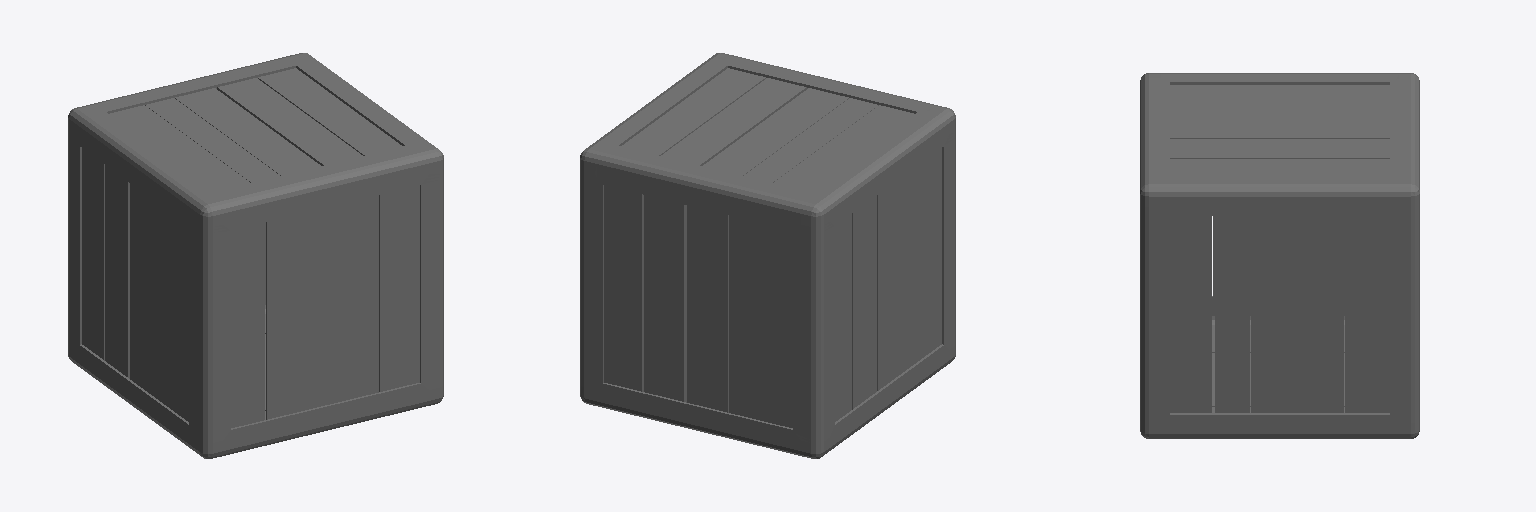
Rendered from Simple_Wood_Box.obj.
3 renders of one model, left to right at view 1: azimuth 30°, elevation 25°; view 2: azimuth 150°, elevation 25°; view 3: azimuth 270°, elevation 25°, orthographic.
Visible parts, largest first — view 1: pCube1; view 2: pCube1; view 3: pCube1.
Boxes of the visible parts, <box> form: pCube1: <box>68,53,443,458</box>; pCube1: <box>580,53,955,458</box>; pCube1: <box>1140,73,1419,438</box>.
Size of the model in its own units: 0.095 by 0.095 by 0.095.